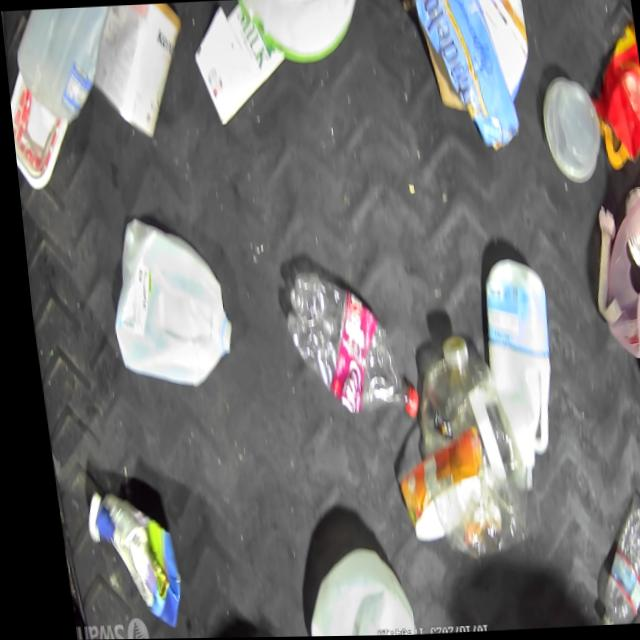milk_jug: (94, 214, 233, 403), (465, 247, 562, 478), (4, 6, 129, 147), (283, 532, 404, 637)
plastic_bottle: (395, 337, 536, 556), (271, 270, 415, 437), (577, 497, 640, 626)
